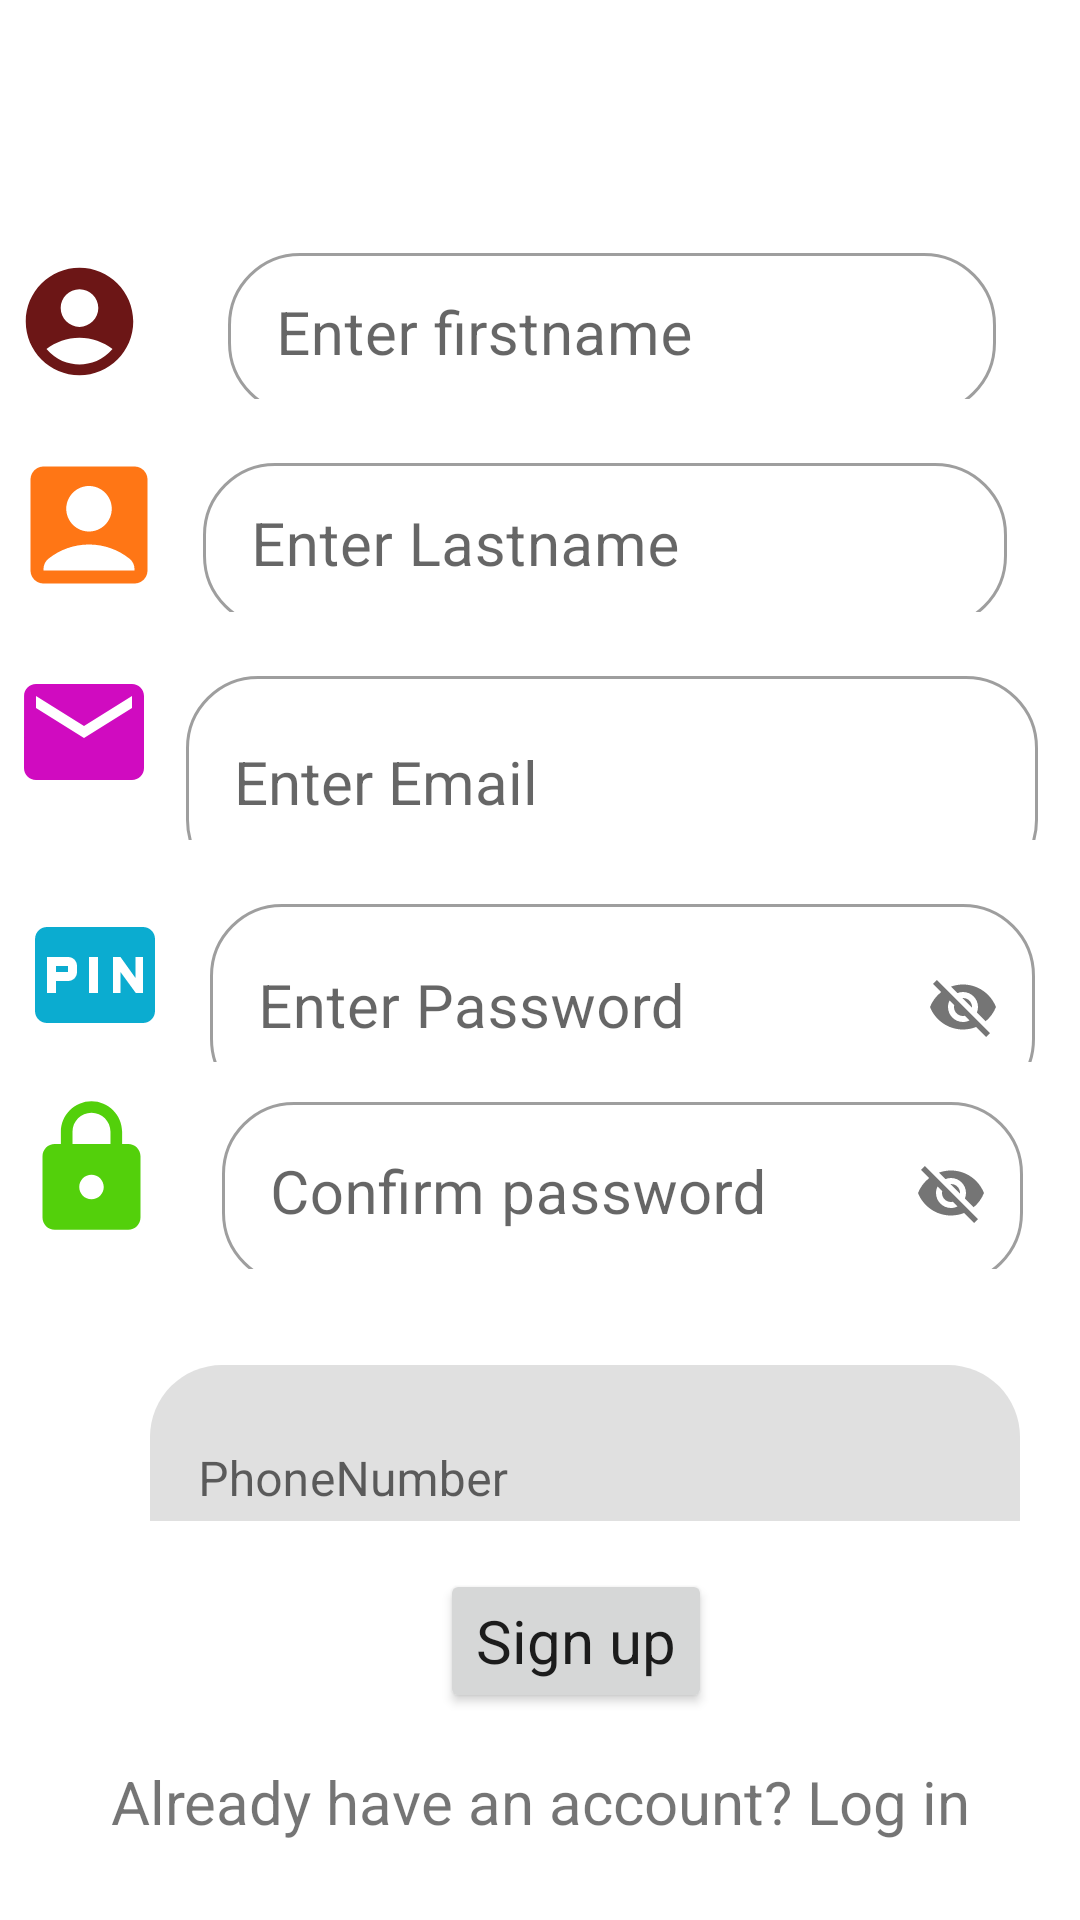

Locate icon controls on the screen. Image size 1080w x 1920h, boxes as (x1, y1, x2, y2).
account box: (30, 466, 148, 584)
account circle: (25, 267, 134, 376)
lock: (42, 1101, 141, 1230)
